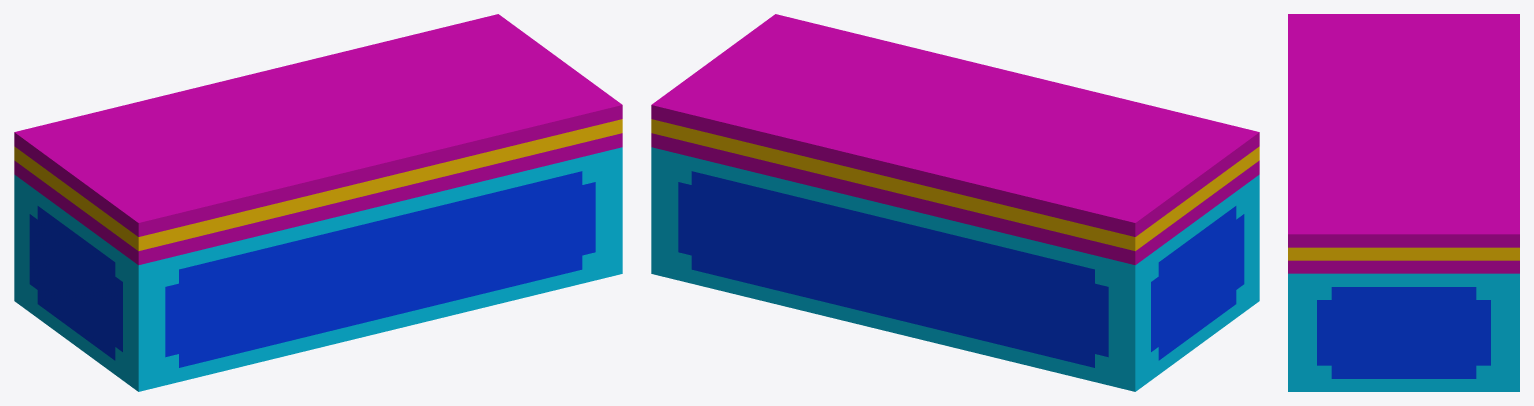
Rendered from wall_2x1_4.obj.
3 views of the same model, side by side, from view 1: azimuth 30°, elevation 25°; view 2: azimuth 150°, elevation 25°; view 3: azimuth 270°, elevation 25° (orthographic). The views are drawn at different scales.
Bounding box in the file's own units: 3.6 × 1.2 × 1.6.
1 material, 1 textured.
